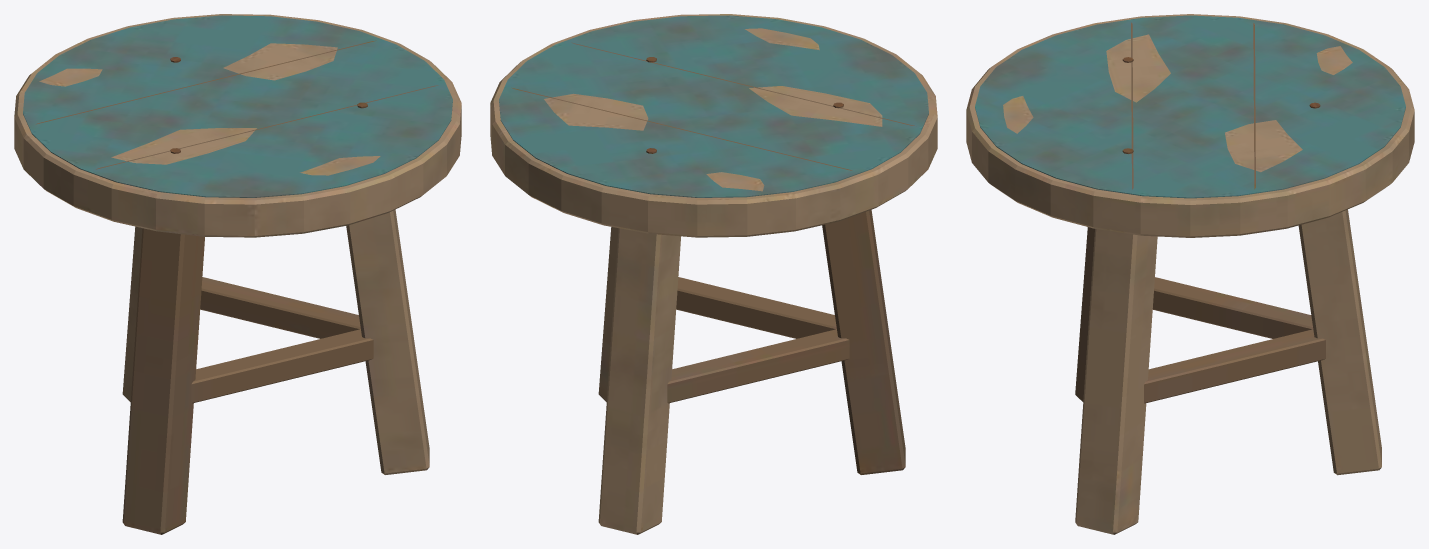
File: L27_stool_v2.glb
The picture shows the model from 3 angles, left to right: view 1: azimuth 30°, elevation 25°; view 2: azimuth 150°, elevation 25°; view 3: azimuth 270°, elevation 25°; orthographic projection.
Parts seen in each view (by area): view 1: Round wooden seat; view 2: Round wooden seat; view 3: Round wooden seat.
Part boxes in pixels (x1,y1,x2,y2): Round wooden seat: (14, 14, 461, 534); Round wooden seat: (490, 14, 937, 534); Round wooden seat: (966, 14, 1414, 534).
Size of the model in its own units: 0.5 by 0.4446 by 0.5.
4 materials, 4 textured.
